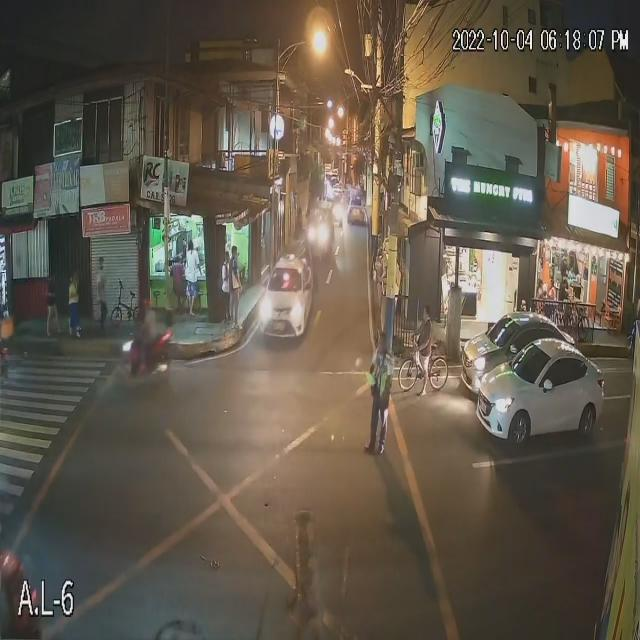helmet: (132, 298, 155, 312)
motorcycle: (120, 343, 181, 394)
rider: (139, 319, 161, 360)
